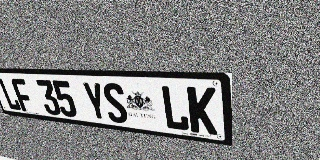3: (35, 79, 62, 116)
5: (51, 80, 79, 118)
F: (10, 78, 36, 113)
K: (187, 86, 217, 135)
L: (160, 85, 190, 132), (0, 78, 22, 111)
S: (101, 82, 129, 124)
Y: (81, 82, 109, 122)
